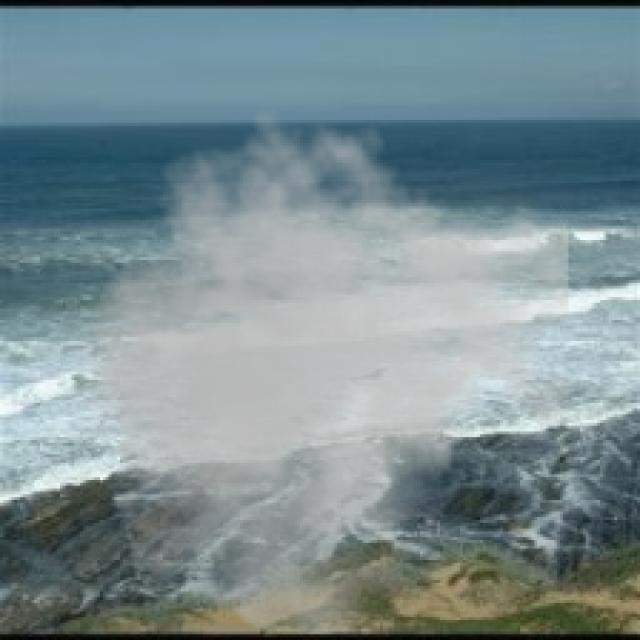smoke: (40, 106, 569, 637)
